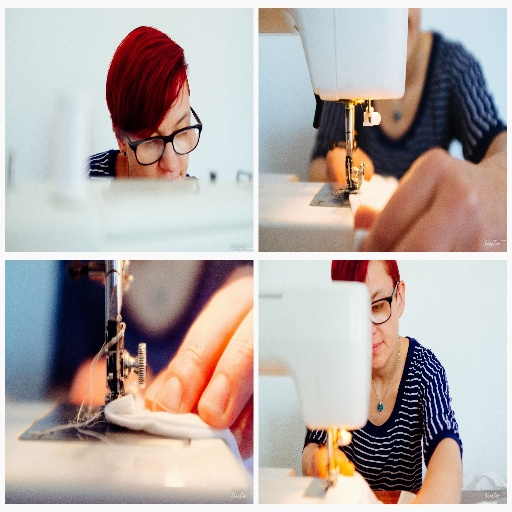hand: (141, 267, 255, 460), (368, 126, 502, 260), (324, 145, 375, 182), (305, 445, 355, 480)
